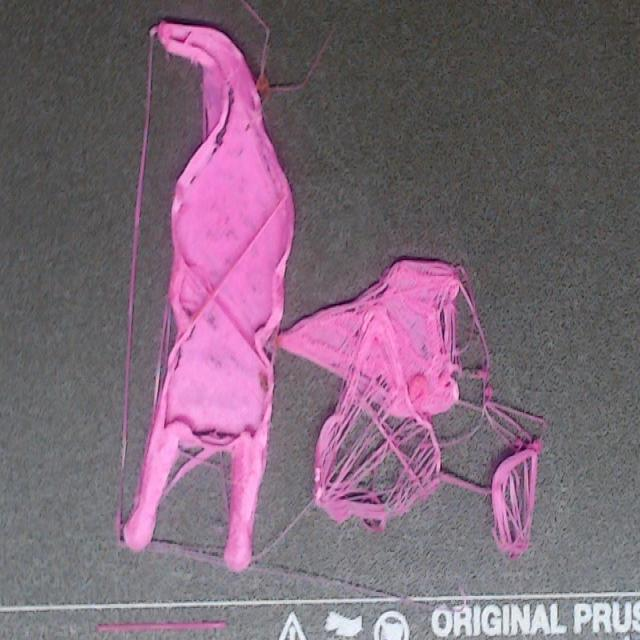mistake: (124, 21, 293, 571), (280, 260, 543, 556)
